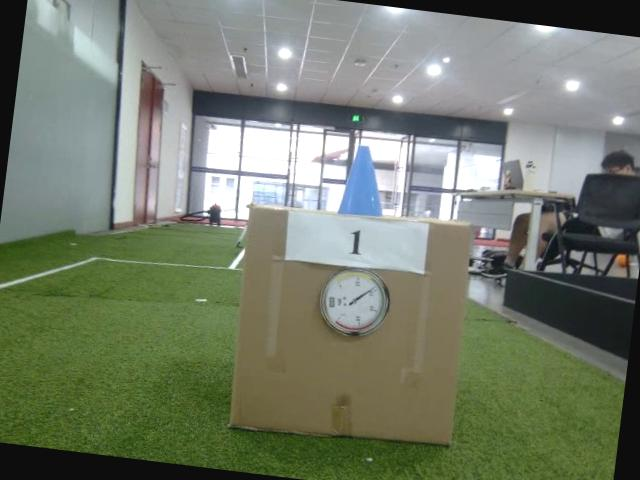1: (346, 228, 364, 255)
Dashboard: (314, 264, 394, 342)
blue_barrel: (336, 143, 390, 219)
ssi: (326, 296, 338, 310)
